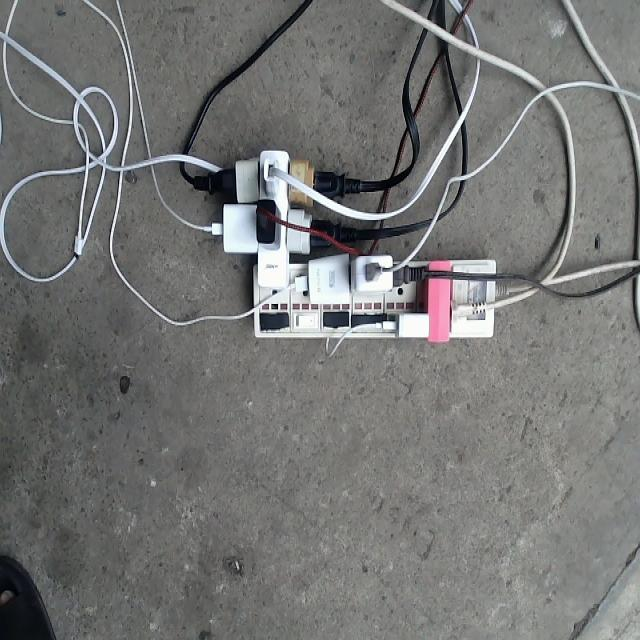-: (184, 148, 493, 336)
